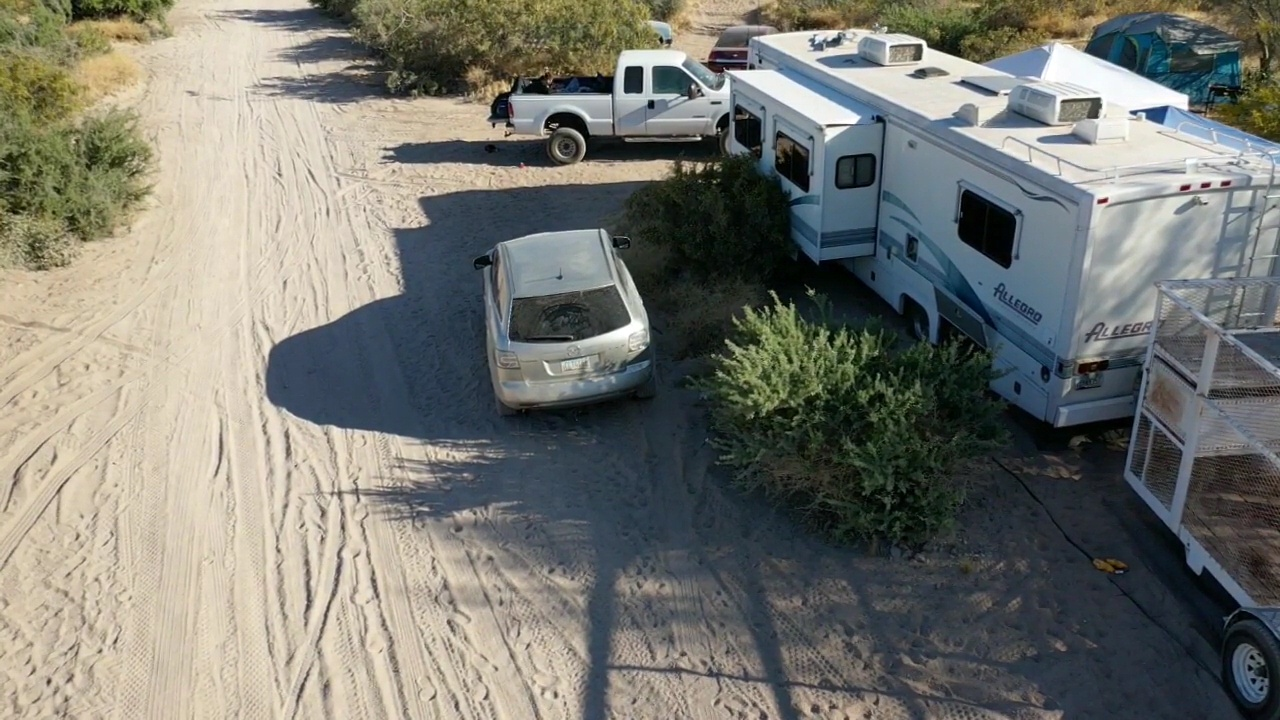araba: (471, 225, 658, 418), (706, 23, 787, 76)
kamyonet: (488, 46, 759, 166)
